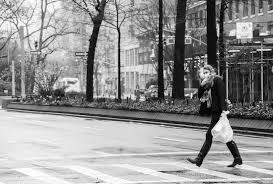mask: (199, 66, 212, 79)
